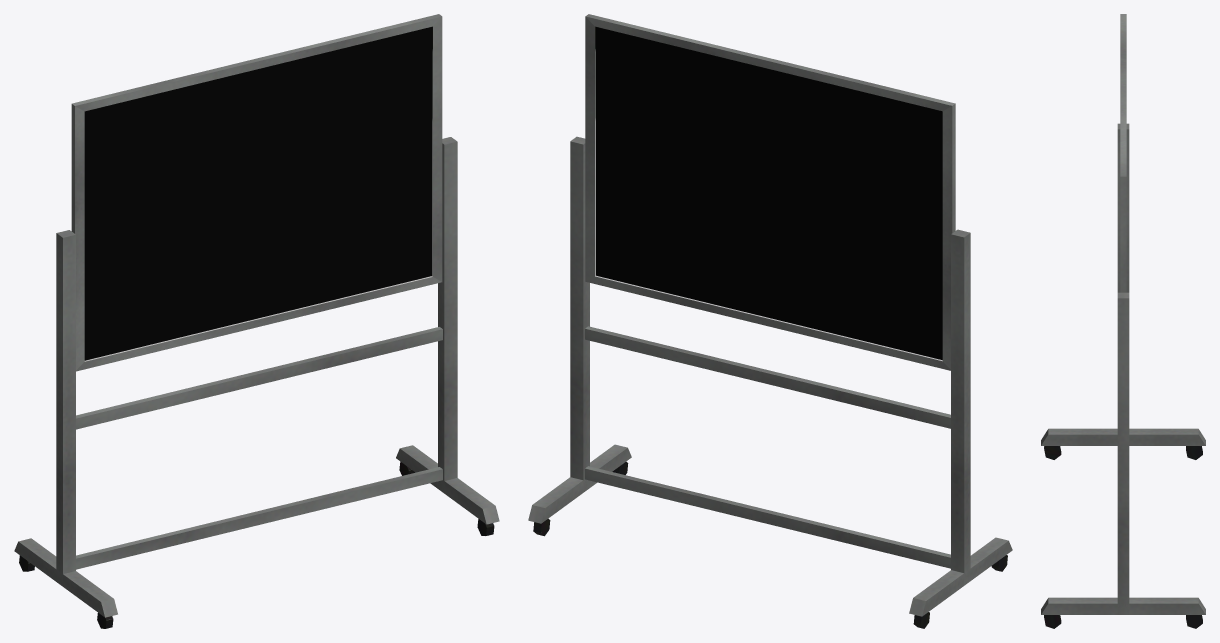
The model's file is whiteboard.fbx.
The picture shows the model from 3 angles, left to right: view 1: azimuth 30°, elevation 25°; view 2: azimuth 150°, elevation 25°; view 3: azimuth 270°, elevation 25°; orthographic projection. The views are drawn at different scales.
Parts seen in each view (by area): view 1: whiteboard; view 2: whiteboard; view 3: whiteboard.
Part boxes in pixels (x1=…): whiteboard: x1=14, y1=14, x2=499, y2=628; whiteboard: x1=528, y1=14, x2=1012, y2=628; whiteboard: x1=1041, y1=14, x2=1205, y2=628.
Size of the model in its own units: 215 by 257 by 85.69.
